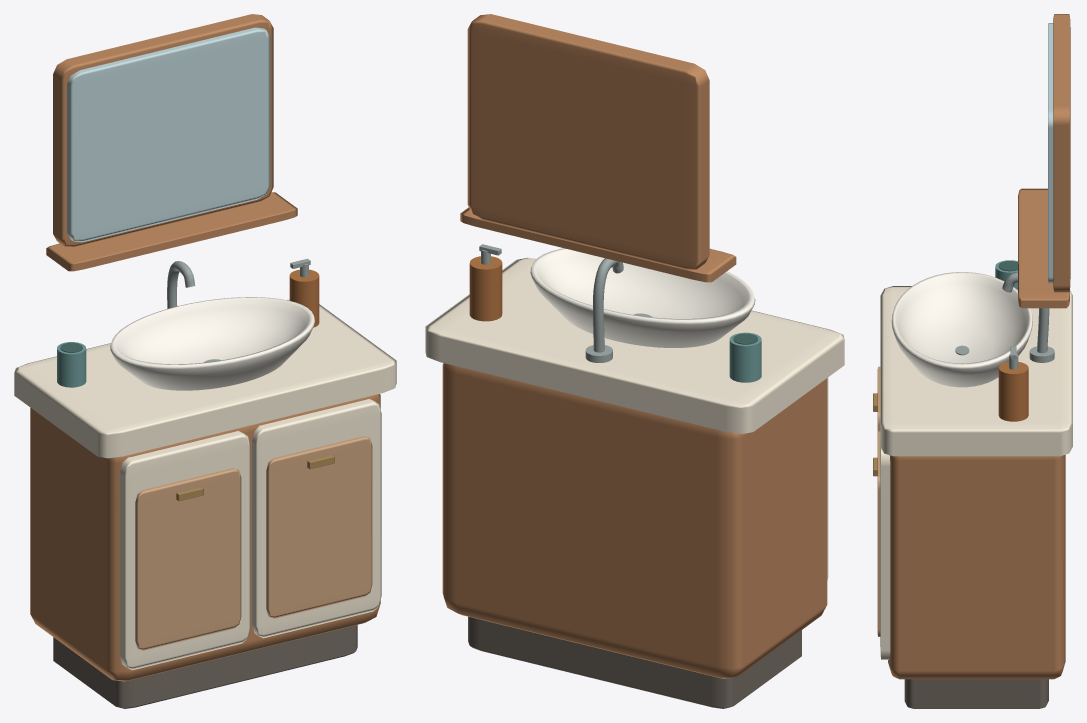
File: apartment-basin-v1.glb
The picture shows the model from 3 angles, left to right: view 1: azimuth 30°, elevation 25°; view 2: azimuth 150°, elevation 25°; view 3: azimuth 270°, elevation 25°; orthographic projection. The views are drawn at different scales.
Parts seen in each view (by area): view 1: Mirror, Recessed-oak-panel (×2), Counter, Cabinet, Shaker-door (×2), Glazed-vessel, Plinth, Mirror-frame, Vanity-ledge, Amber-soap, Rinse-cup, Gooseneck; view 2: Cabinet, Mirror-frame, Counter, Glazed-vessel, Plinth, Vanity-ledge, Amber-soap, Rinse-cup, Gooseneck; view 3: Cabinet, Counter, Glazed-vessel, Mirror-frame, Plinth, Vanity-ledge, Shaker-door, Amber-soap, Mirror, Recessed-oak-panel, Gooseneck.
Boxes of the visible parts, <box> form: Mirror: <box>67,27,270,242</box>; Recessed-oak-panel (×2): <box>135,436,372,650</box>; Counter: <box>14,299,396,458</box>; Cabinet: <box>30,394,380,681</box>; Shaker-door (×2): <box>119,399,381,670</box>; Glazed-vessel: <box>110,297,314,390</box>; Plinth: <box>53,625,357,708</box>; Mirror-frame: <box>53,14,273,247</box>; Vanity-ledge: <box>46,192,297,271</box>; Amber-soap: <box>289,269,319,327</box>; Rinse-cup: <box>57,342,86,387</box>; Gooseneck: <box>167,261,195,308</box>; Cabinet: <box>442,363,827,678</box>; Mirror-frame: <box>467,14,709,270</box>; Counter: <box>425,257,844,433</box>; Glazed-vessel: <box>530,248,755,347</box>; Plinth: <box>468,616,801,708</box>; Vanity-ledge: <box>460,207,736,282</box>; Amber-soap: <box>469,256,502,321</box>; Rinse-cup: <box>729,332,761,382</box>; Gooseneck: <box>593,258,623,352</box>; Cabinet: <box>888,454,1065,679</box>; Counter: <box>880,286,1072,456</box>; Glazed-vessel: <box>891,272,1032,387</box>; Mirror-frame: <box>1053,14,1070,292</box>; Plinth: <box>904,679,1048,708</box>; Vanity-ledge: <box>1018,188,1069,308</box>; Shaker-door: <box>880,447,890,659</box>; Amber-soap: <box>998,362,1028,421</box>; Mirror: <box>1048,23,1053,283</box>; Recessed-oak-panel: <box>877,431,880,636</box>; Gooseneck: <box>1002,272,1049,353</box>.
Bounding box in the file's own units: 0.94 × 1.77 × 0.54.
